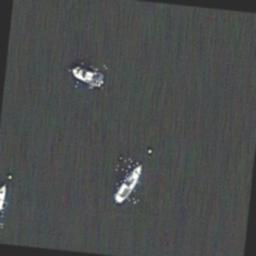boat: (112, 158, 145, 206), (66, 62, 106, 90), (0, 180, 9, 227)
